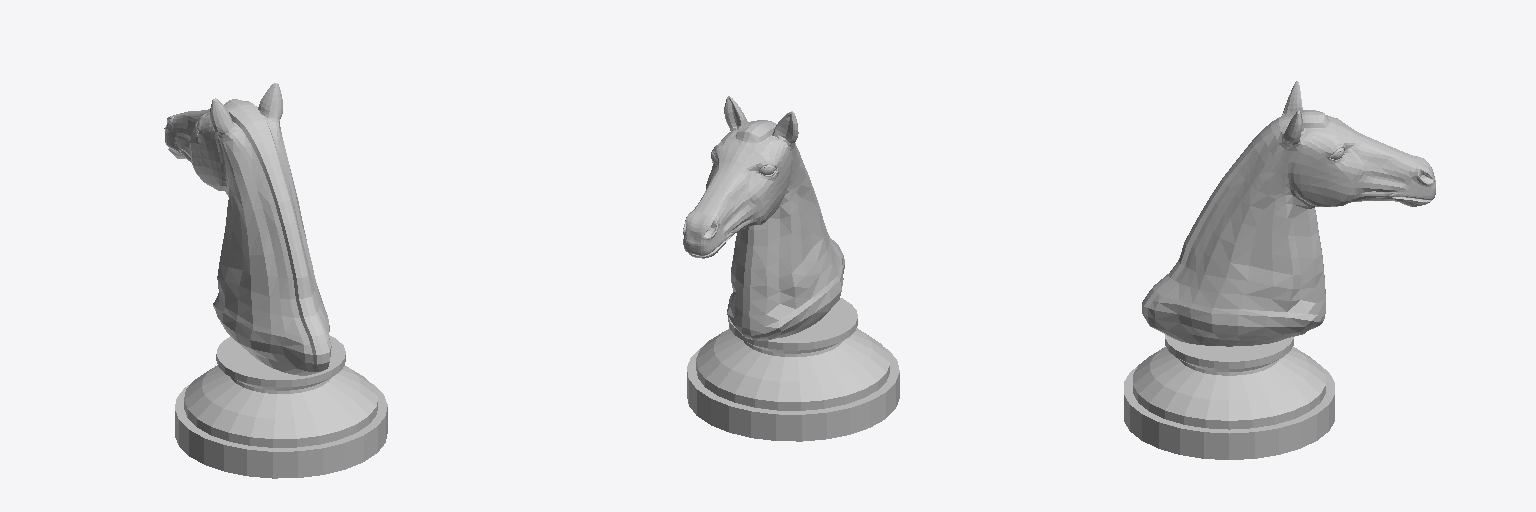
Rendered from knight_white.obj.
3 renders of one model, left to right at view 1: azimuth 30°, elevation 25°; view 2: azimuth 150°, elevation 25°; view 3: azimuth 270°, elevation 25°, orthographic.
Visible parts, largest first — view 1: knight_white_uploads_files_[number redacted]_Chess+Set.005; view 2: knight_white_uploads_files_[number redacted]_Chess+Set.005; view 3: knight_white_uploads_files_[number redacted]_Chess+Set.005.
Boxes of the visible parts, box(x1,y1,x2,y2) form: knight_white_uploads_files_[number redacted]_Chess+Set.005: box(164, 83, 387, 478); knight_white_uploads_files_[number redacted]_Chess+Set.005: box(683, 96, 899, 441); knight_white_uploads_files_[number redacted]_Chess+Set.005: box(1124, 81, 1435, 459).
Bounding box in the file's own units: 4.04 × 6.65 × 5.92.